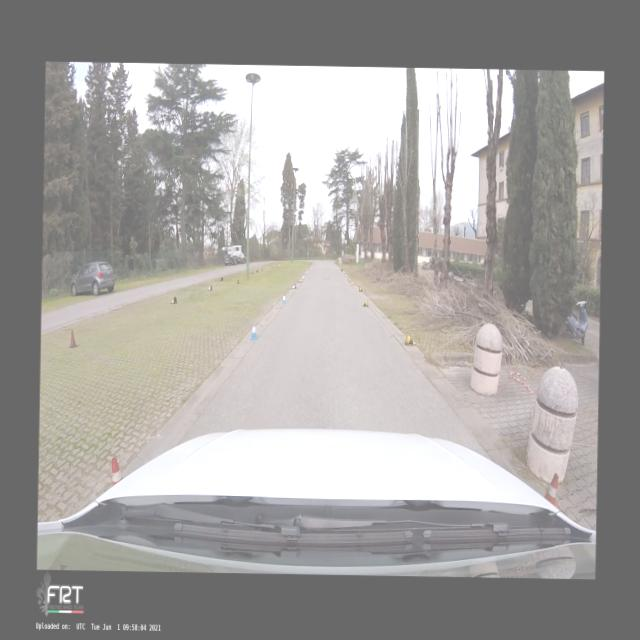blue_cone: (250, 322, 258, 340), (282, 292, 286, 304), (291, 282, 296, 288), (302, 274, 304, 280), (306, 269, 308, 274)
orange_cone: (543, 472, 558, 505), (111, 458, 123, 486), (170, 296, 177, 304), (207, 284, 212, 290)
unknown_cone: (68, 328, 78, 348), (236, 276, 239, 284), (219, 277, 223, 281), (255, 268, 258, 272), (261, 267, 264, 271), (251, 268, 253, 274), (340, 268, 342, 272)
yellow_cone: (404, 332, 416, 345), (361, 300, 368, 306), (358, 286, 363, 291), (348, 278, 351, 283)
